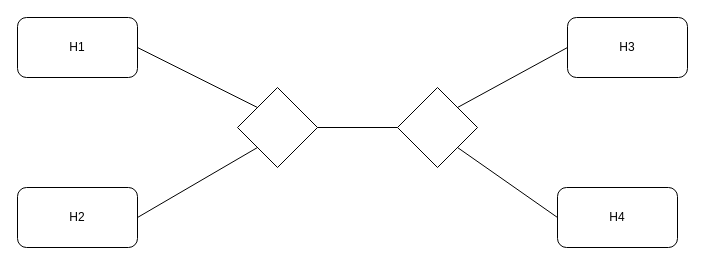
Image size: 705x265. Some labels were removed from this diagram. The centre of each missing label's shape, as x and y in pixels:
"s1" goes at [277,127].
"s2" goes at [437,127].
